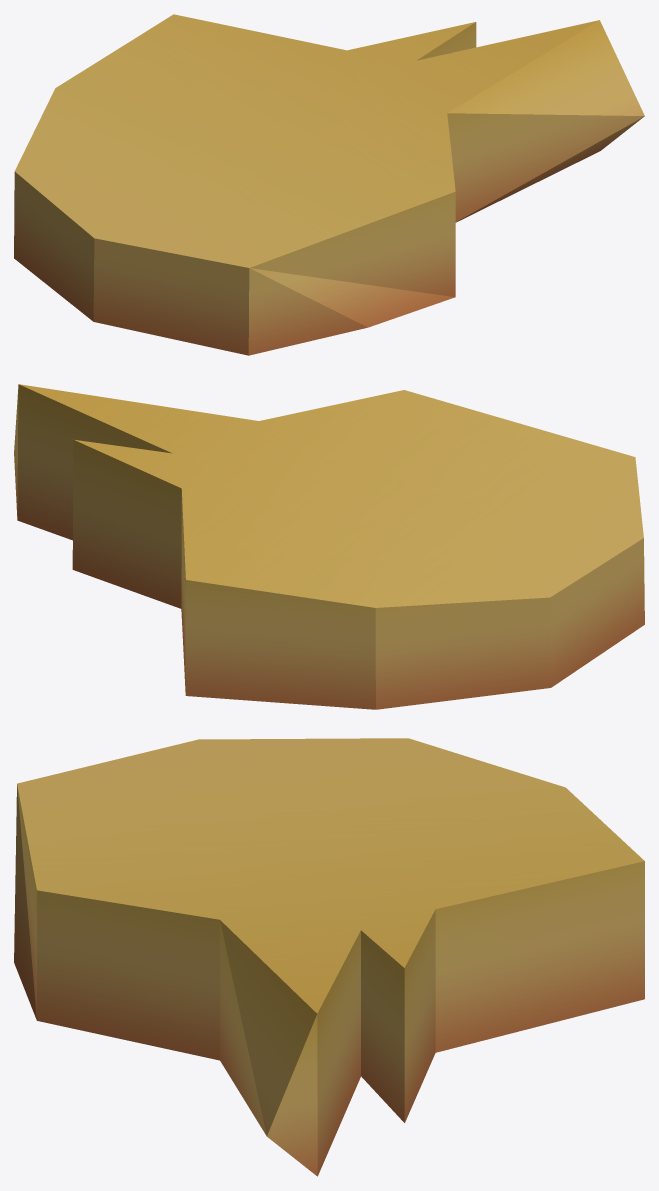
The model's file is Canyon_Stone_004.FBX.
3 renders of one model, top to bottom at view 1: azimuth 30°, elevation 25°; view 2: azimuth 150°, elevation 25°; view 3: azimuth 270°, elevation 25°, orthographic. The views are drawn at different scales.
Parts seen in each view (by area): view 1: Canyon_Stone_004; view 2: Canyon_Stone_004; view 3: Canyon_Stone_004.
Part boxes in pixels (<box>): Canyon_Stone_004: <box>14,14,644,355</box>; Canyon_Stone_004: <box>14,384,644,709</box>; Canyon_Stone_004: <box>14,738,644,1176</box>.
Size of the model in its own units: 291 by 63.14 by 222.
1 material, 1 textured.
